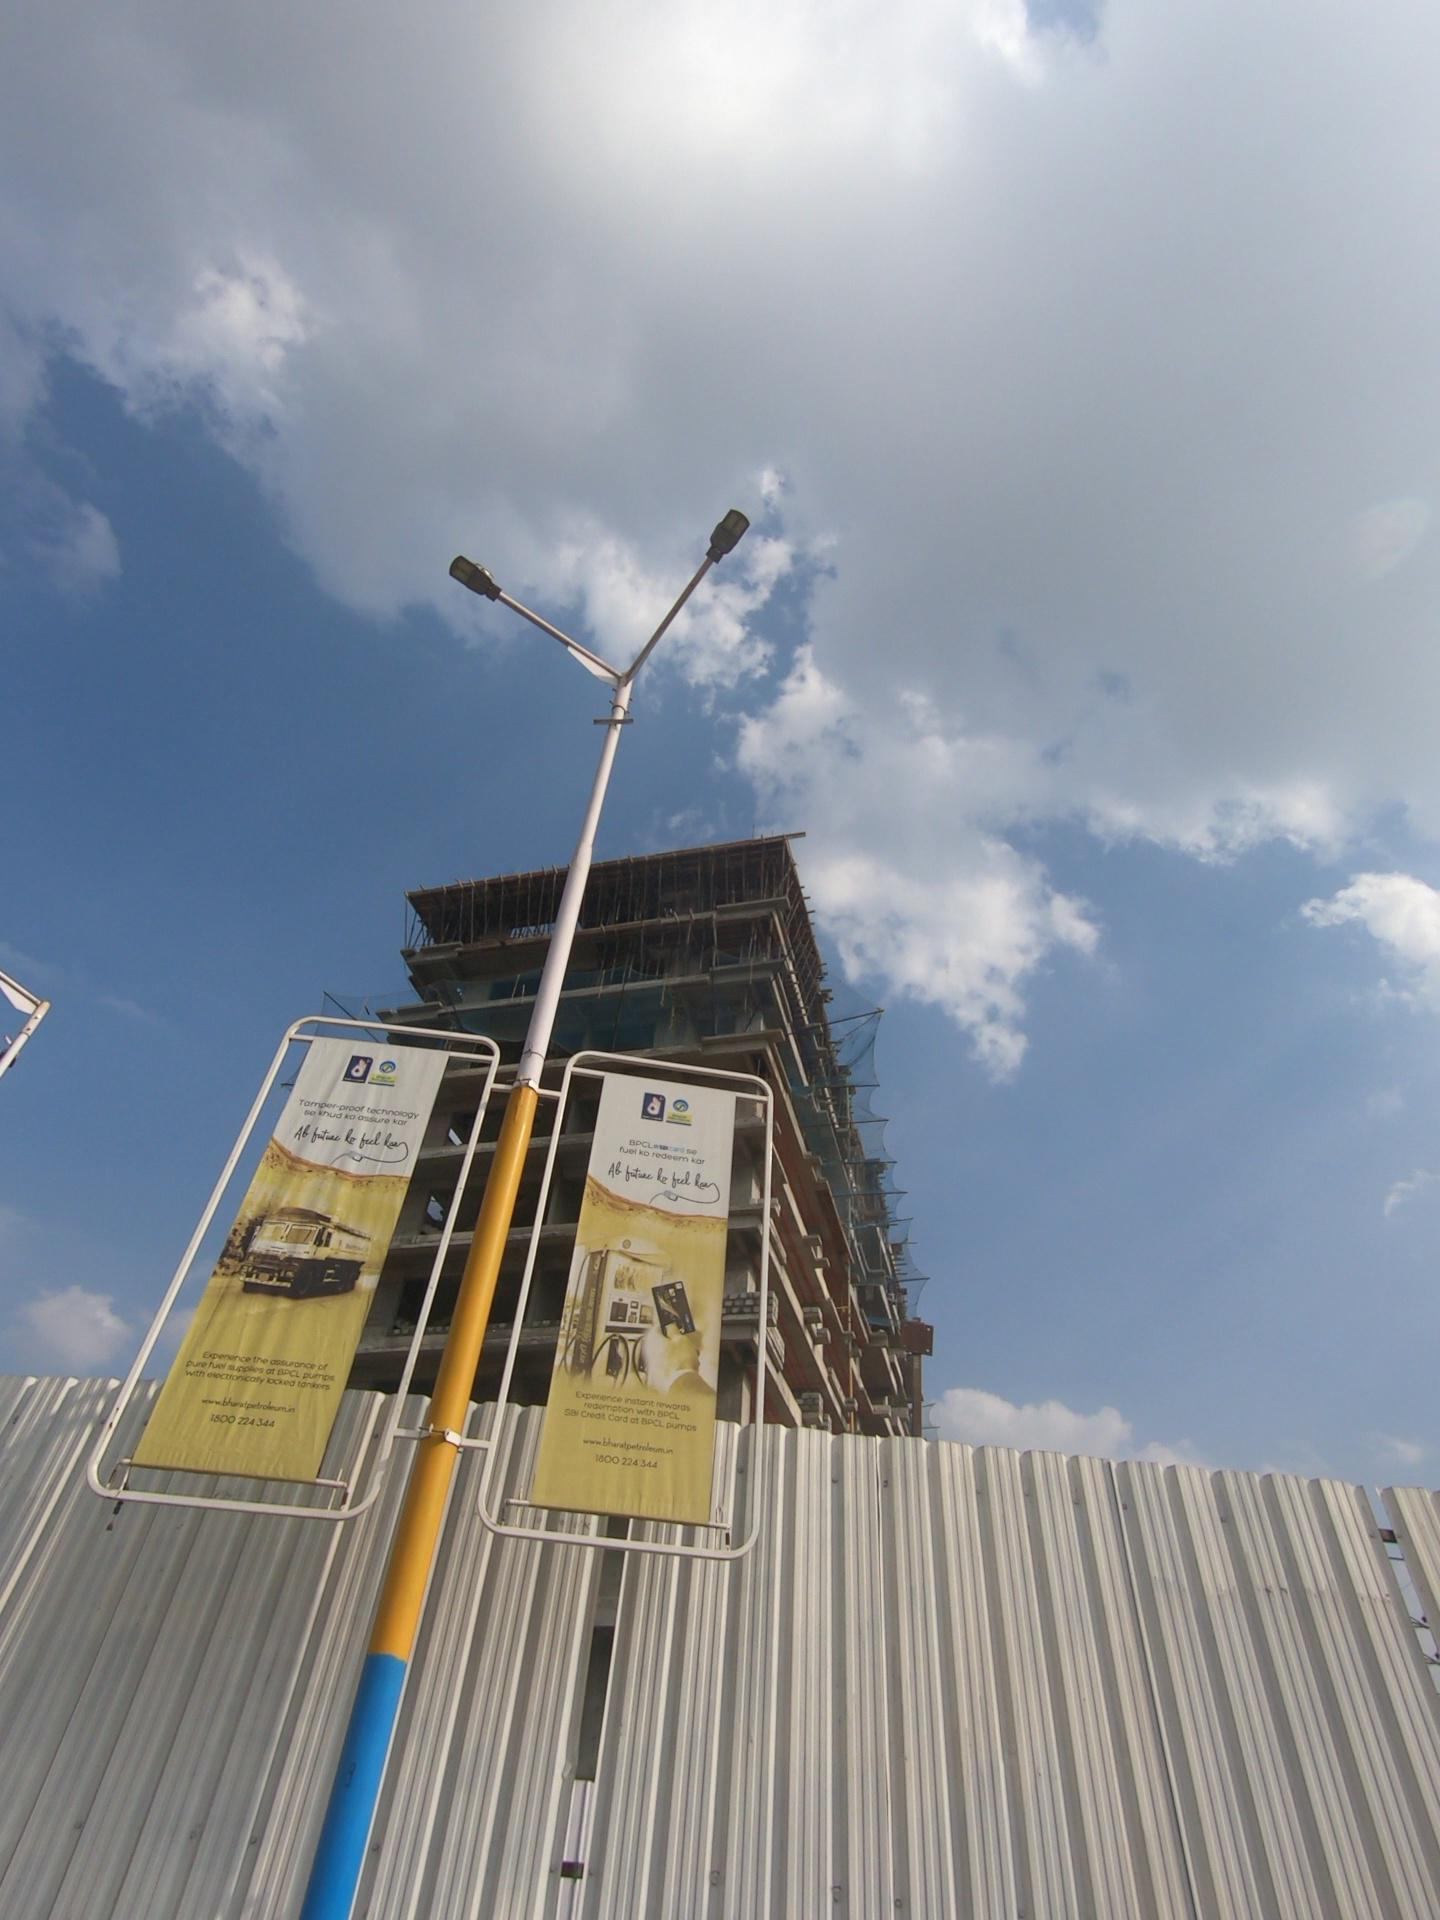off: (390, 472, 788, 671)
